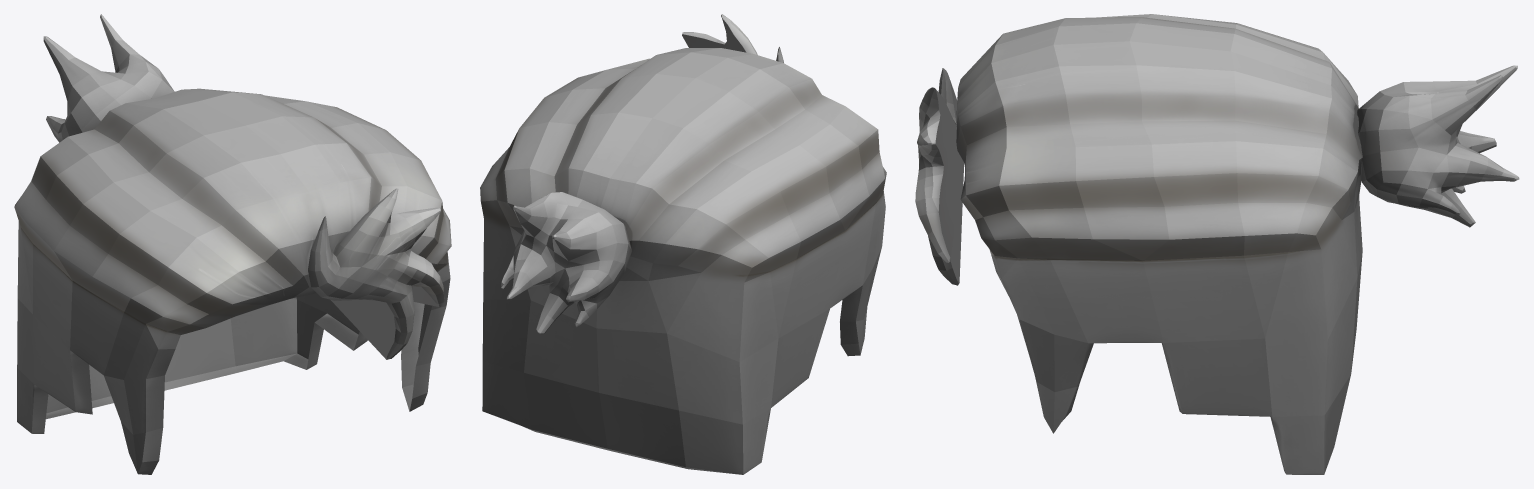
File: Toc2.fbx
3 views of the same model, side by side, from view 1: azimuth 30°, elevation 25°; view 2: azimuth 150°, elevation 25°; view 3: azimuth 270°, elevation 25° (orthographic). The views are drawn at different scales.
Parts seen in each view (by area): view 1: Toc2; view 2: Toc2; view 3: Toc2.
Part boxes in pixels (left/top/right/bottom): Toc2: left=14, top=14, right=451, bottom=474; Toc2: left=480, top=14, right=886, bottom=474; Toc2: left=915, top=14, right=1519, bottom=474.
Bounding box in the file's own units: 5.57 × 5.11 × 7.64.
Materials: 1 (1 with a texture image).
